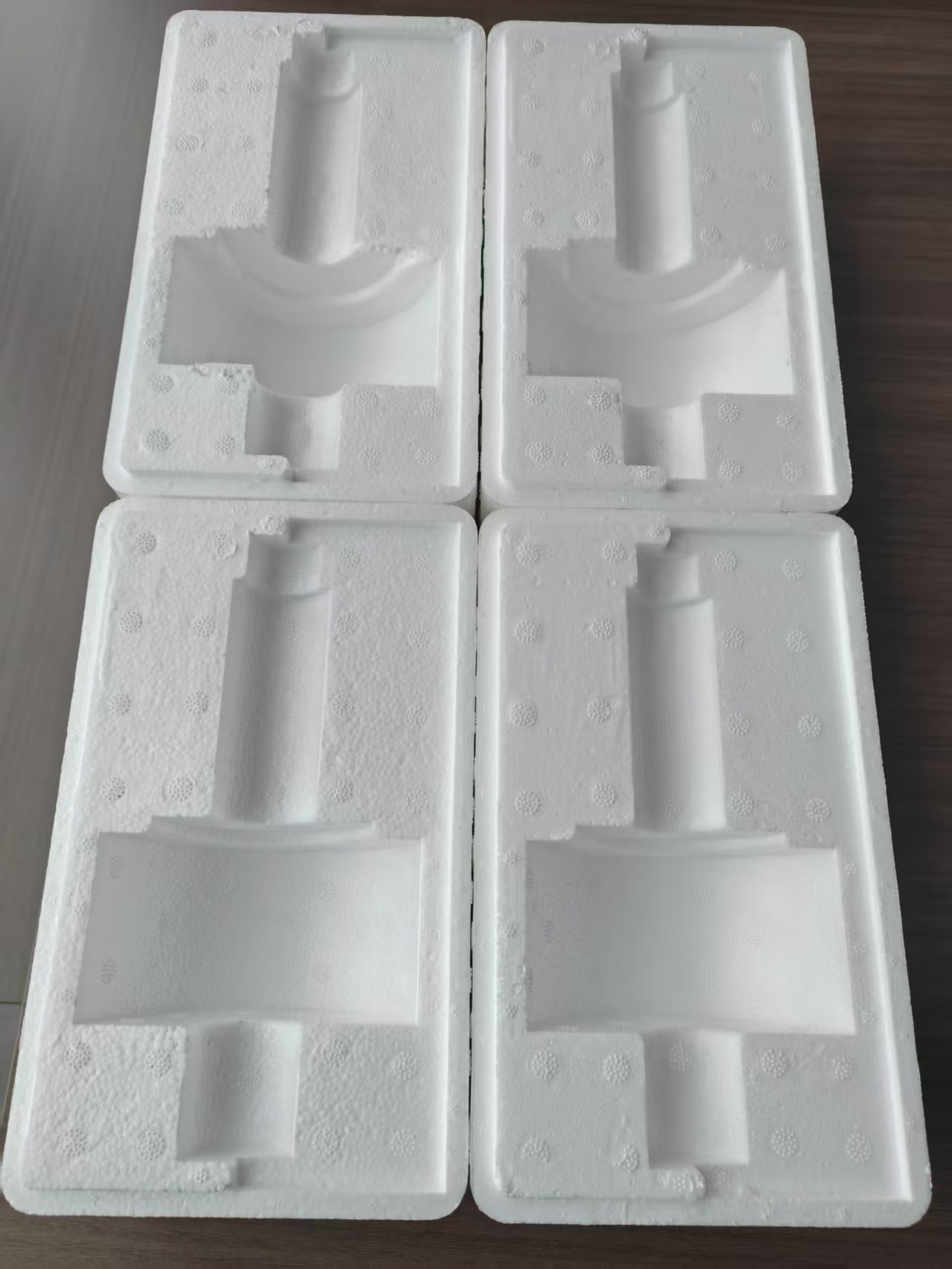Boxes: (3, 12, 483, 1219), (473, 23, 932, 1227)
